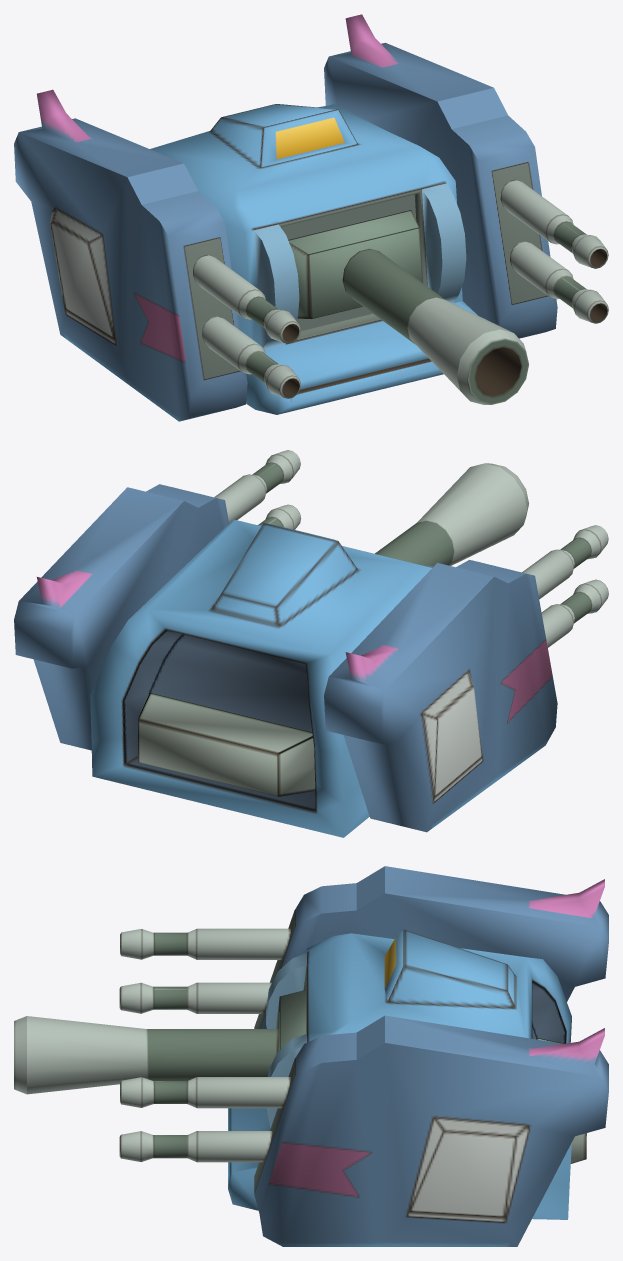
Rendered from Tank3_Tower.fbx.
3 renders of one model, top to bottom at view 1: azimuth 30°, elevation 25°; view 2: azimuth 150°, elevation 25°; view 3: azimuth 270°, elevation 25°, orthographic.
Visible parts, largest first — view 1: Tower; view 2: Tower; view 3: Tower.
Boxes of the visible parts, x1,y1,x2,y2 form: Tower: (14,14,608,421); Tower: (14,450,608,837); Tower: (14,866,608,1246).
Bounding box in the file's own units: 2.85 × 1.51 × 3.84.
